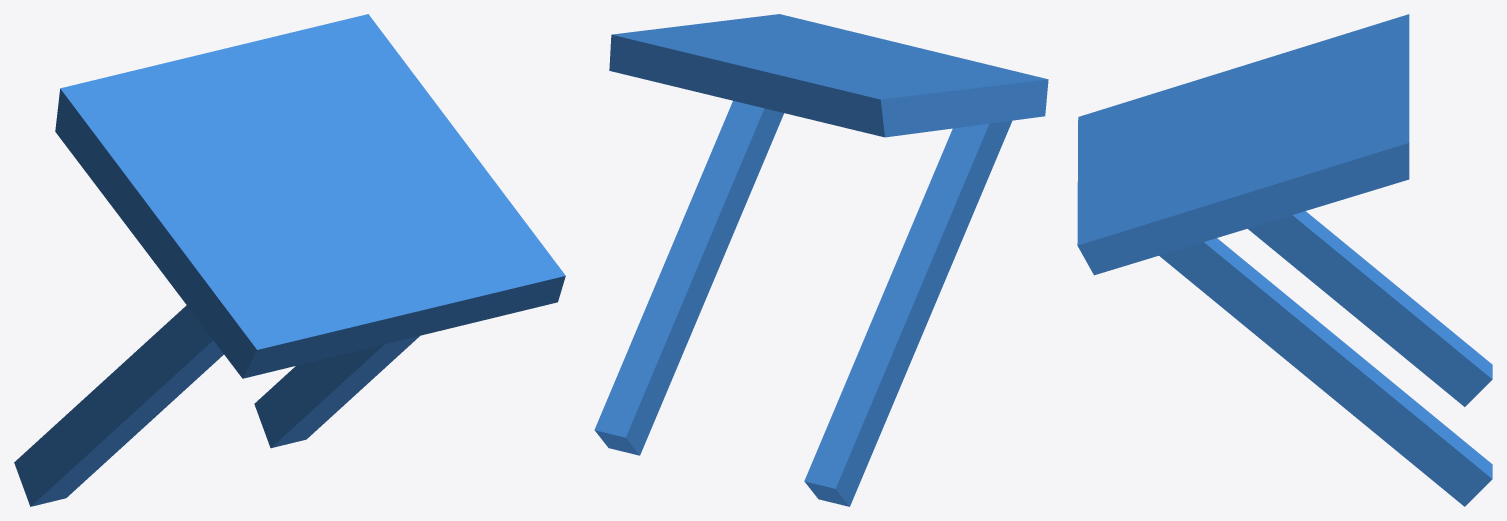
File: Collision_Window_Roof_Thin.fbx
The picture shows the model from 3 angles, left to right: view 1: azimuth 30°, elevation 25°; view 2: azimuth 150°, elevation 25°; view 3: azimuth 270°, elevation 25°; orthographic projection. The views are drawn at different scales.
Visible parts, largest first — view 1: UCX_Window_Roof_Thin_1; view 2: UCX_Window_Roof_Thin_1; view 3: UCX_Window_Roof_Thin_1.
Boxes of the visible parts, box(x1,y1,x2,y2) form: UCX_Window_Roof_Thin_1: box(14, 14, 565, 506); UCX_Window_Roof_Thin_1: box(594, 14, 1048, 506); UCX_Window_Roof_Thin_1: box(1077, 14, 1492, 506).
Bounding box in the file's own units: 88.56 × 118 × 118.
